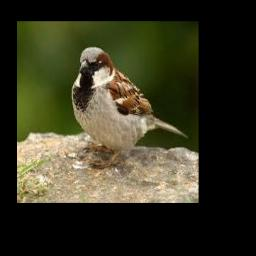Sparrow: (72, 47, 188, 169)
